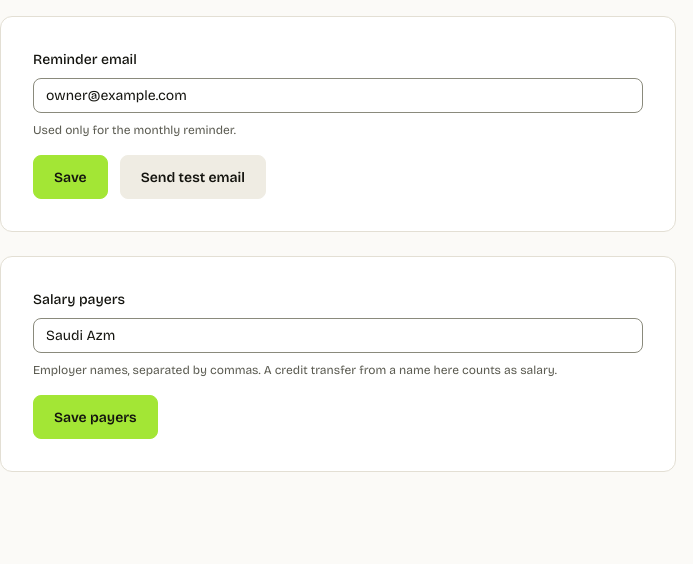
Test case: SettingsForm › loads and saves salary payers
Type ", ACME" into the field labelled "Salary payers" at (338, 336), box [33,318,643,353]
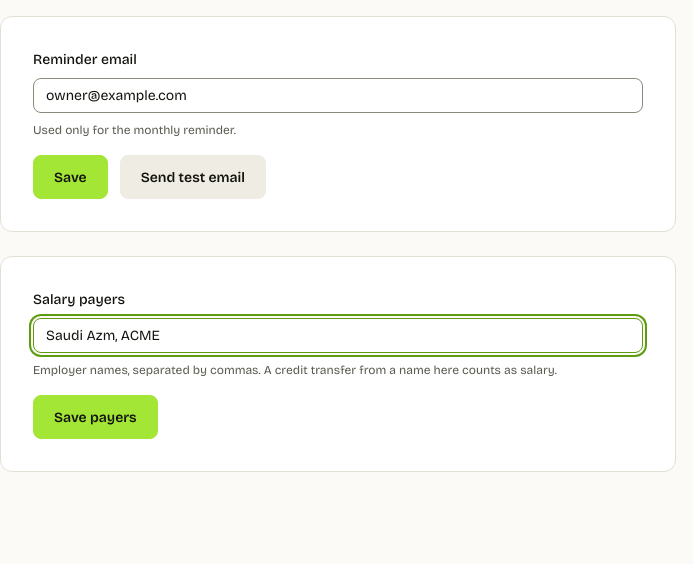
Click the button "Save payers" at (95, 417), box [33,395,158,439]
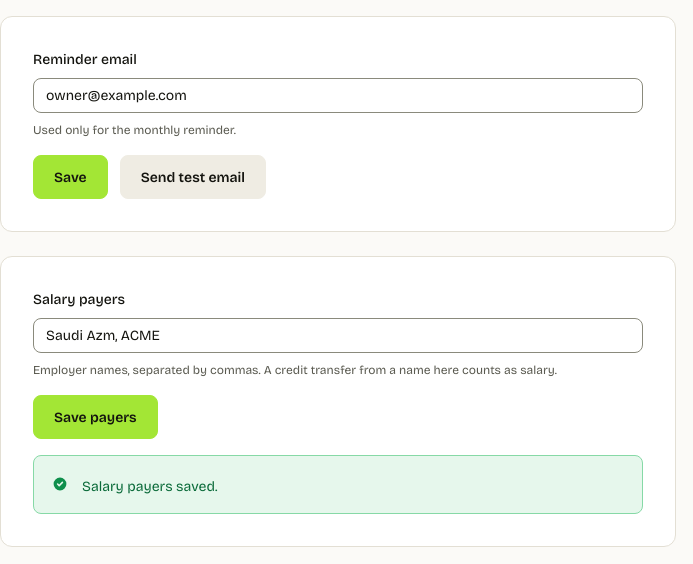
Check: the text "Salary payers saved." is shown, box [82,478,218,495]
